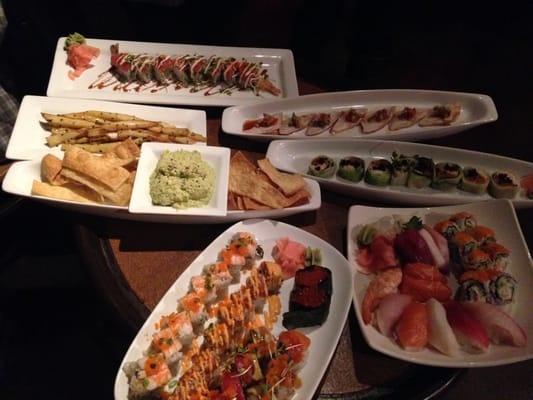soup: (58, 141, 137, 206)
sushi: (348, 205, 533, 369)
